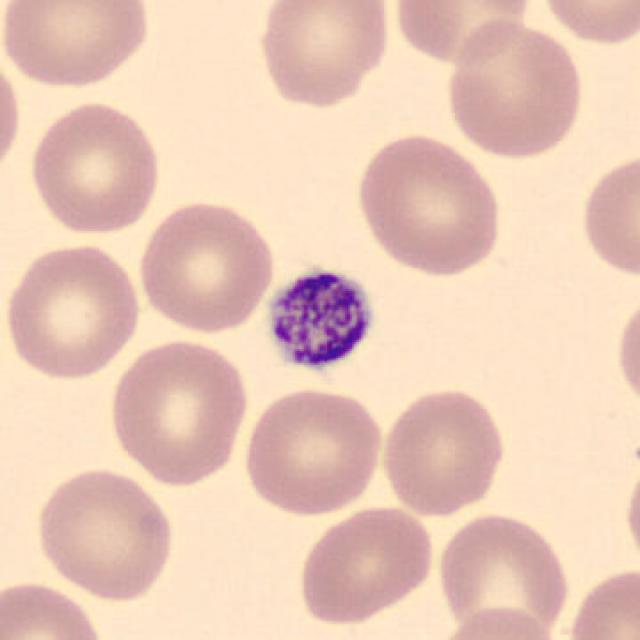Platelets: (261, 261, 377, 375)
RBC: (352, 128, 507, 278), (105, 335, 252, 488), (442, 16, 588, 162), (2, 238, 146, 383), (30, 464, 178, 603), (238, 382, 386, 518), (135, 196, 279, 335), (25, 97, 165, 238), (294, 500, 438, 628), (434, 508, 574, 638), (377, 384, 510, 518), (252, 0, 394, 111), (0, 0, 155, 92), (389, 0, 537, 69), (576, 146, 640, 284), (0, 576, 110, 640), (564, 562, 638, 640), (426, 604, 567, 640), (535, 0, 638, 48), (0, 48, 25, 185), (612, 289, 638, 420), (620, 449, 640, 576)
